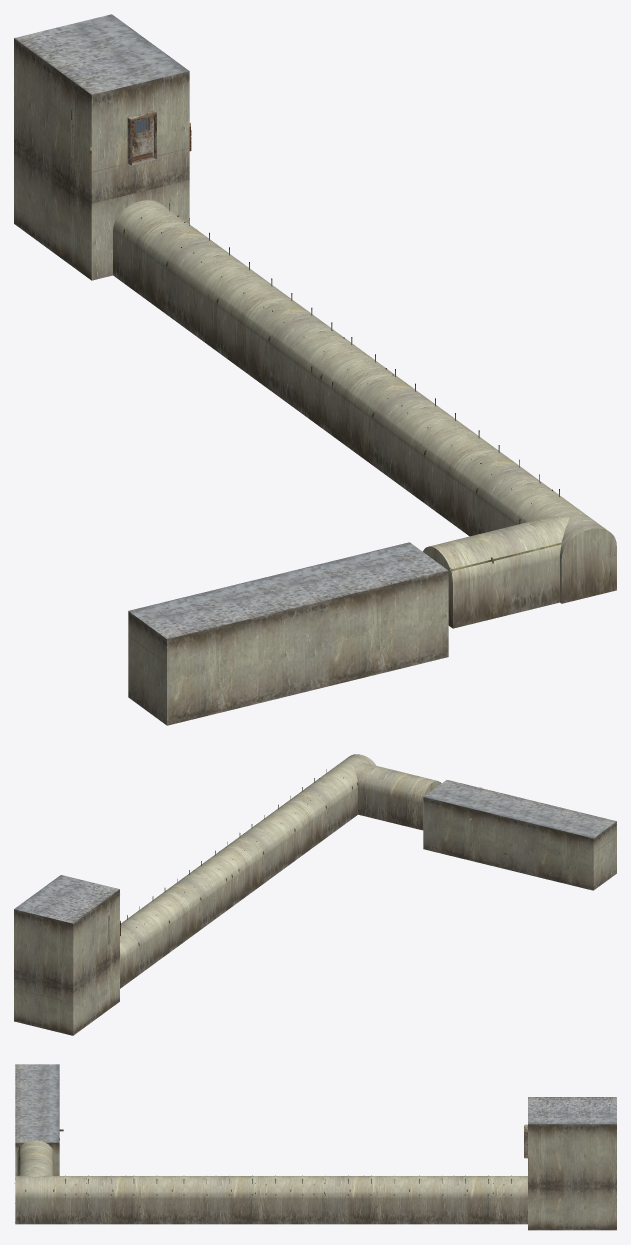
The model's file is Basement_Turret_Tunnel.fbx.
The picture shows the model from 3 angles, top to bottom: view 1: azimuth 30°, elevation 25°; view 2: azimuth 150°, elevation 25°; view 3: azimuth 270°, elevation 25°; orthographic projection. The views are drawn at different scales.
Visible parts, largest first — view 1: Rear_Tunnel, Entrance_Walls, Tunnel_3, Tunnel_1, Tunnel_2, Rear_Ceiling, Tunnel_4, Entrance_Ceiling; view 2: Rear_Tunnel, Entrance_Walls, Tunnel_3, Tunnel_4, Tunnel_2, Rear_Ceiling, Tunnel_1, Entrance_Ceiling; view 3: Entrance_Walls, Tunnel_4, Tunnel_3, Tunnel_1, Tunnel_2, Rear_Ceiling, Rear_Tunnel, Entrance_Ceiling.
Part boxes in pixels (<box>): Rear_Tunnel: <box>128,504,616,725</box>; Entrance_Walls: <box>14,38,189,280</box>; Tunnel_3: <box>320,352,471,502</box>; Tunnel_1: <box>113,200,263,350</box>; Tunnel_2: <box>217,276,366,426</box>; Rear_Ceiling: <box>128,542,447,639</box>; Tunnel_4: <box>424,428,574,536</box>; Entrance_Ceiling: <box>14,14,188,94</box>; Rear_Tunnel: <box>330,754,616,890</box>; Entrance_Walls: <box>14,889,119,1035</box>; Tunnel_3: <box>205,815,295,905</box>; Tunnel_4: <box>268,769,357,860</box>; Tunnel_2: <box>142,861,232,951</box>; Rear_Ceiling: <box>424,780,616,838</box>; Tunnel_1: <box>120,907,169,988</box>; Entrance_Ceiling: <box>14,875,119,923</box>; Entrance_Walls: <box>524,1124,616,1230</box>; Tunnel_4: <box>53,1176,172,1224</box>; Tunnel_3: <box>172,1176,290,1224</box>; Tunnel_1: <box>409,1176,527,1224</box>; Tunnel_2: <box>291,1176,409,1224</box>; Rear_Ceiling: <box>15,1064,59,1142</box>; Rear_Tunnel: <box>15,1140,59,1224</box>; Entrance_Ceiling: <box>528,1097,616,1124</box>.
Size of the model in its own units: 309 by 132 by 597.
